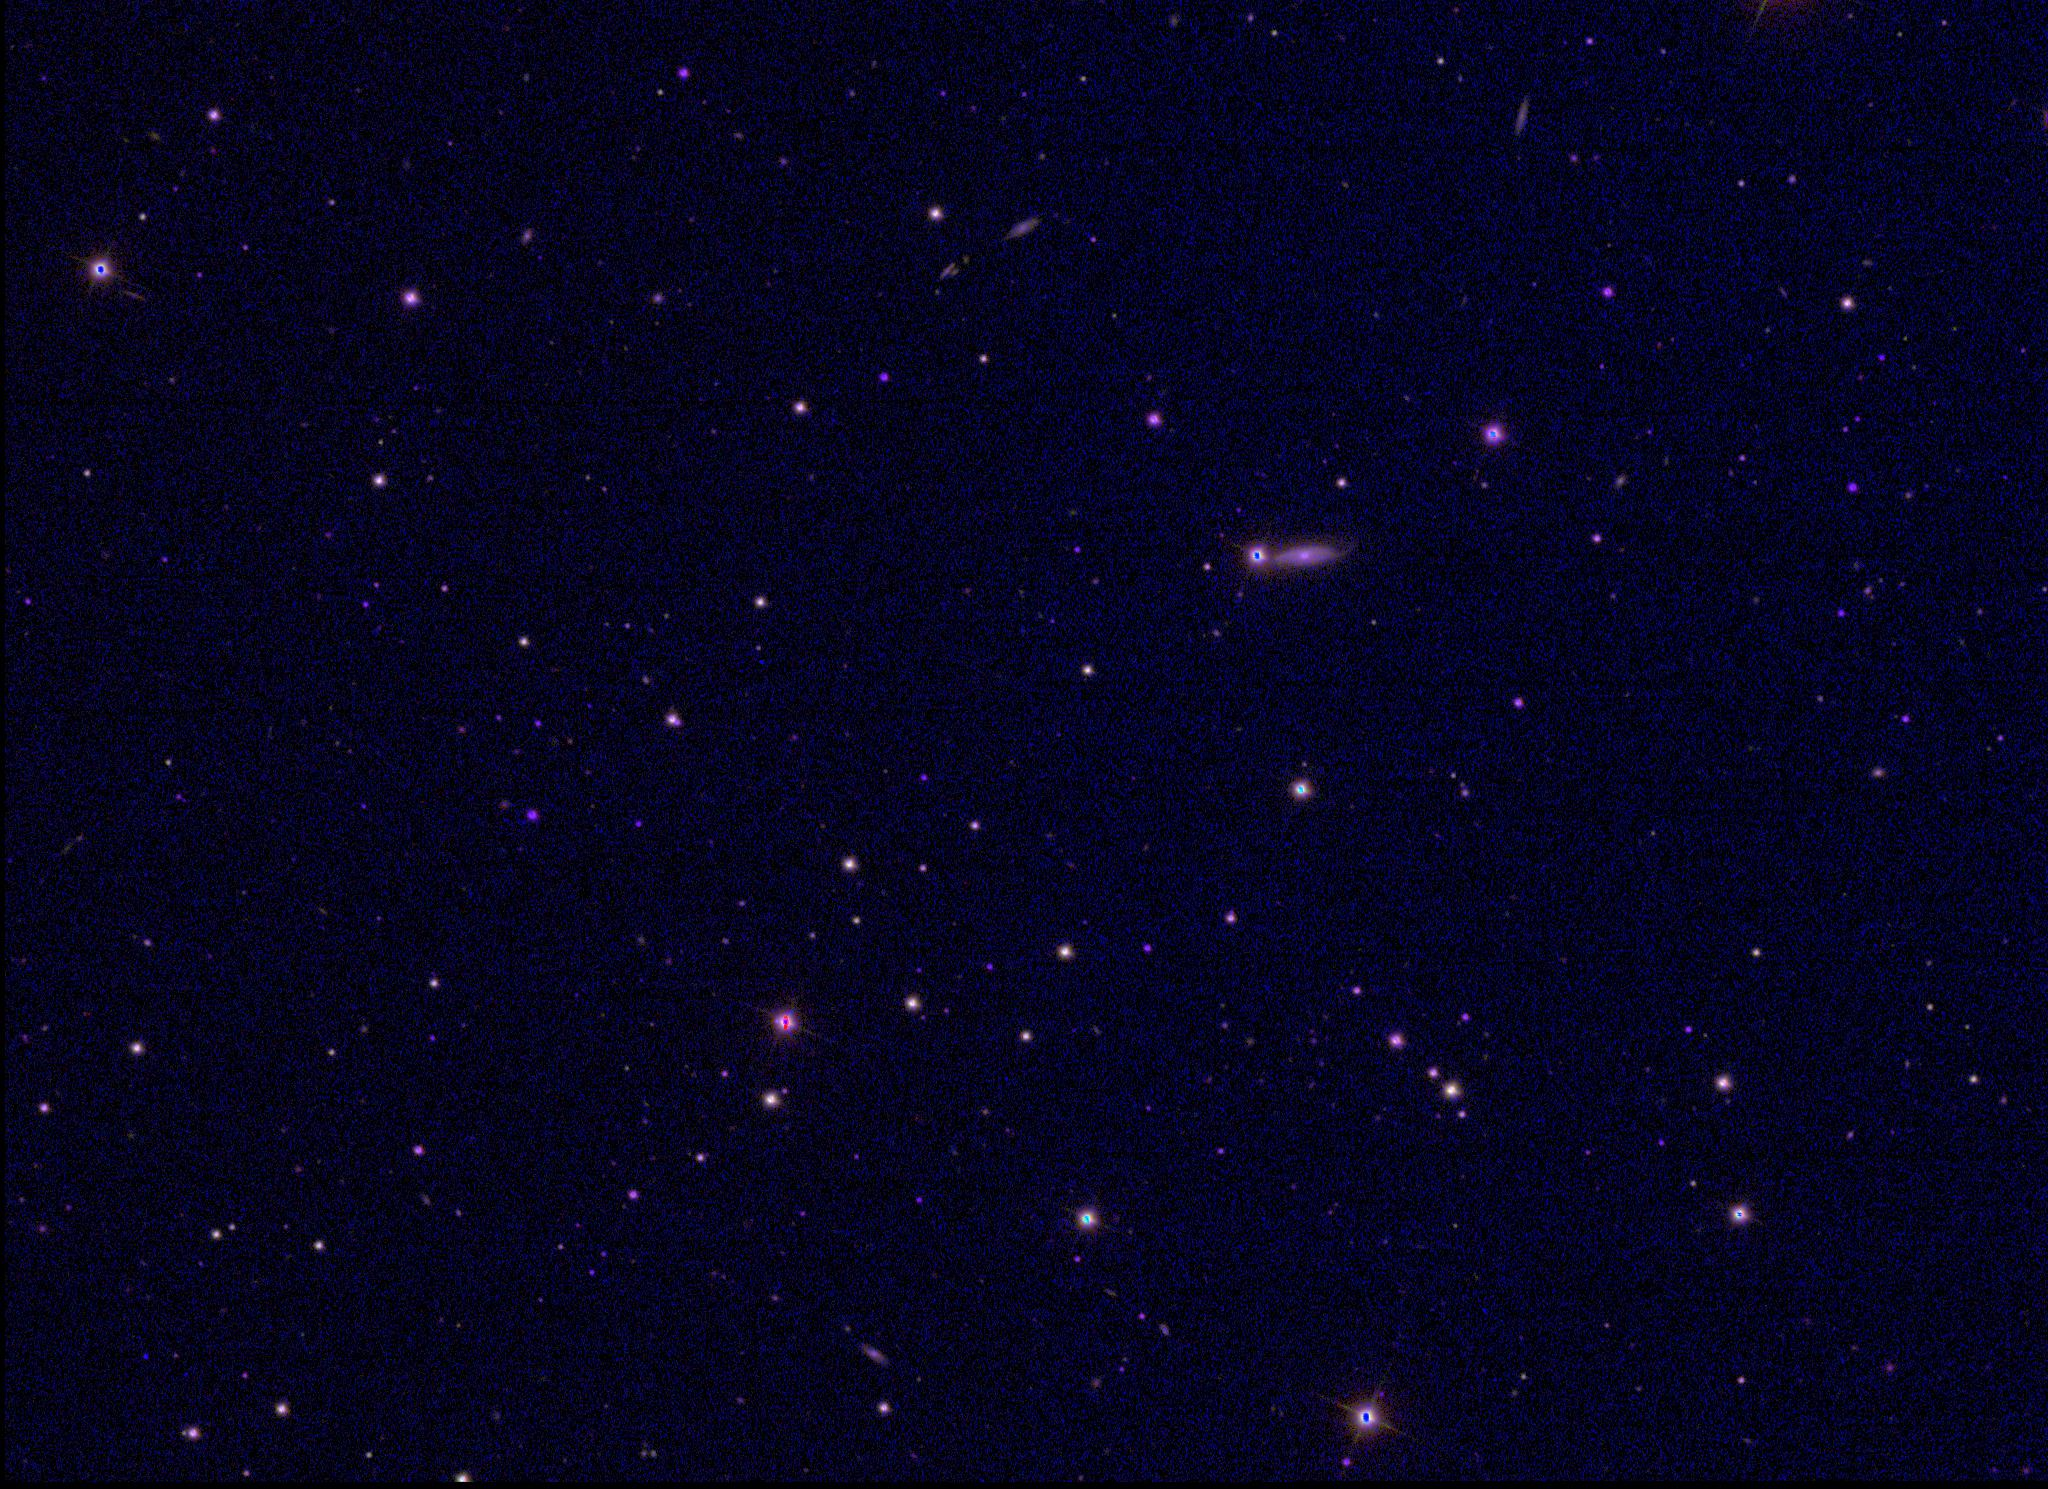L: (138, 1349, 153, 1363)
